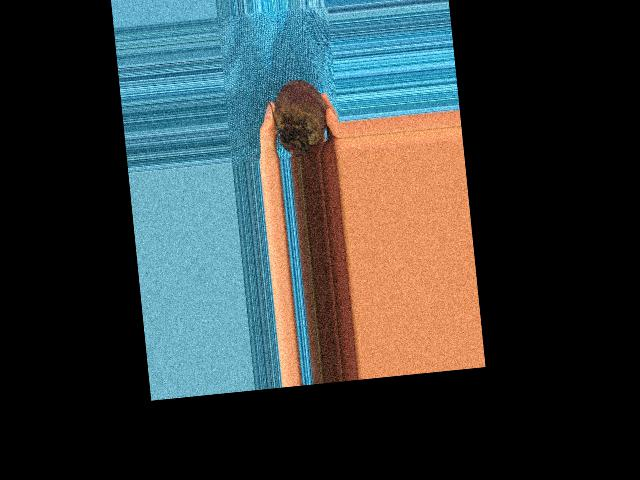beet: (264, 77, 330, 158)
